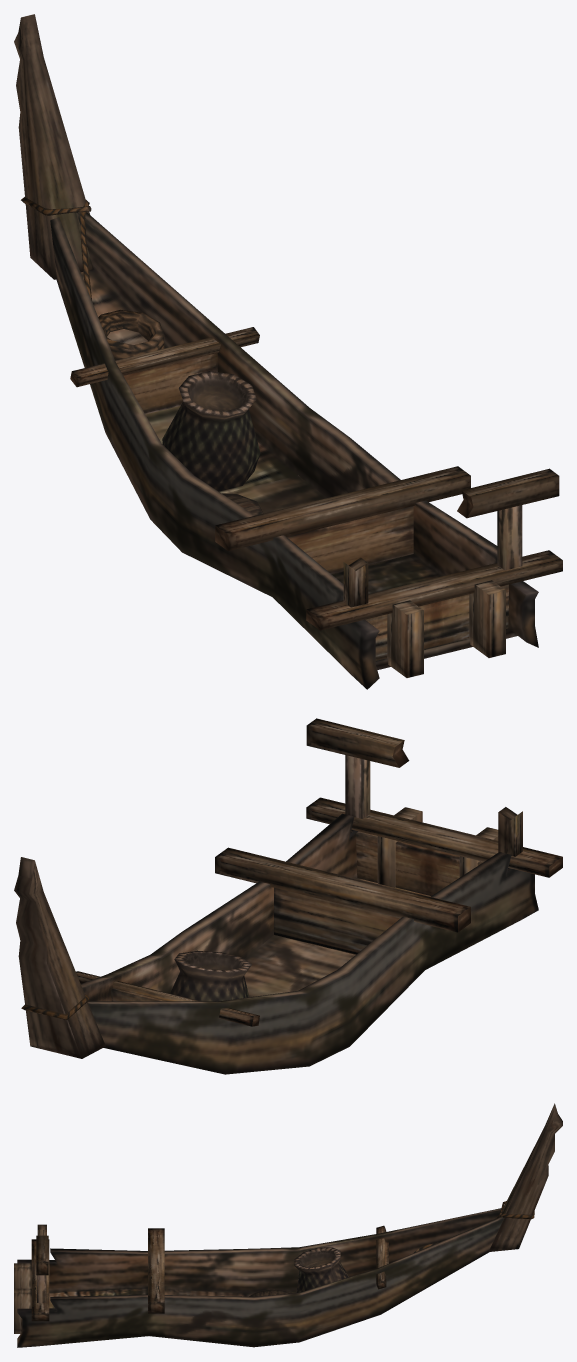
The model's file is PRP_BoatB.FBX.
3 renders of one model, top to bottom at view 1: azimuth 30°, elevation 25°; view 2: azimuth 150°, elevation 25°; view 3: azimuth 270°, elevation 25°, orthographic. The views are drawn at different scales.
Visible parts, largest first — view 1: PRP_BoatB; view 2: PRP_BoatB; view 3: PRP_BoatB.
Part boxes in pixels (bbox=[...]): PRP_BoatB: bbox=[14, 14, 562, 689]; PRP_BoatB: bbox=[14, 718, 562, 1074]; PRP_BoatB: bbox=[14, 1103, 562, 1347].
Bounding box in the file's own units: 288 × 388 × 892.
Materials: 1 (1 with a texture image).
